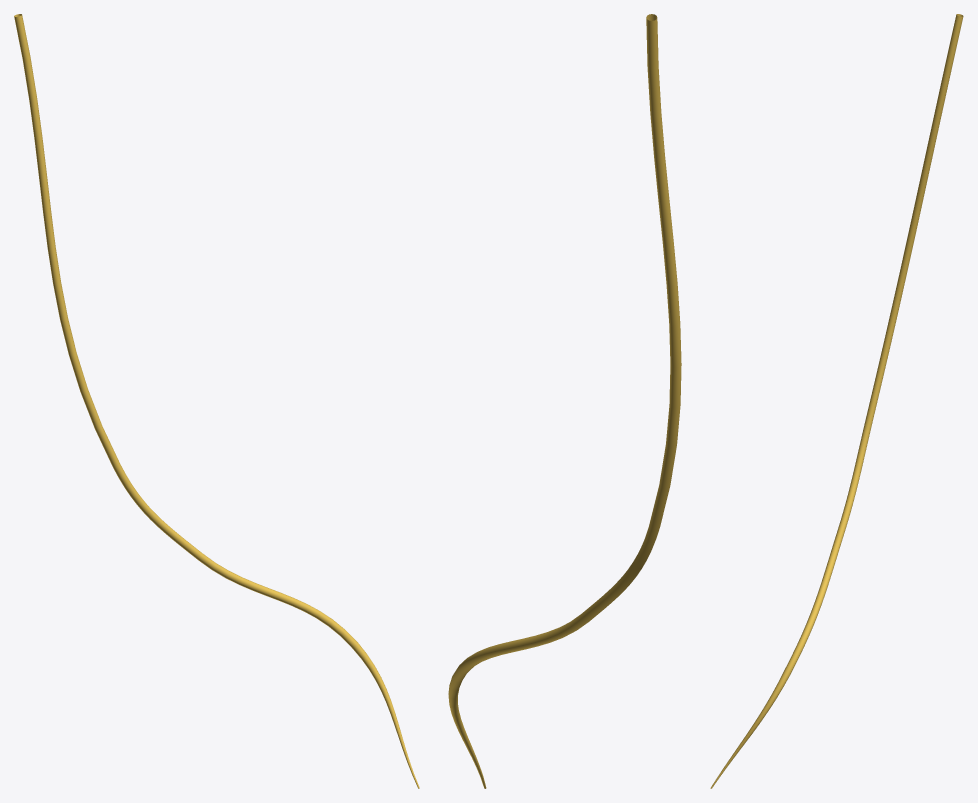
File: Palmar_branch_median_nerve_left.glb
The picture shows the model from 3 angles, left to right: view 1: azimuth 30°, elevation 25°; view 2: azimuth 150°, elevation 25°; view 3: azimuth 270°, elevation 25°; orthographic projection. The views are drawn at different scales.
Parts seen in each view (by area): view 1: Palmar_branch_of_median_nerve.l_BezierCurve.493; view 2: Palmar_branch_of_median_nerve.l_BezierCurve.493; view 3: Palmar_branch_of_median_nerve.l_BezierCurve.493.
Part boxes in pixels (x1,y1,x2,y2): Palmar_branch_of_median_nerve.l_BezierCurve.493: (14, 14, 419, 788); Palmar_branch_of_median_nerve.l_BezierCurve.493: (448, 14, 681, 788); Palmar_branch_of_median_nerve.l_BezierCurve.493: (710, 14, 963, 788).
Size of the model in its own units: 0.0373 by 0.0986 by 0.0343.
